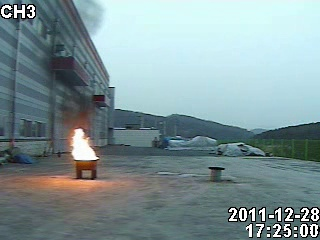fire: (68, 126, 98, 161)
